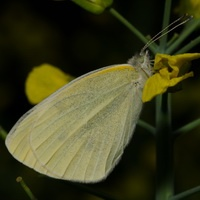insect: (5, 51, 199, 182)
